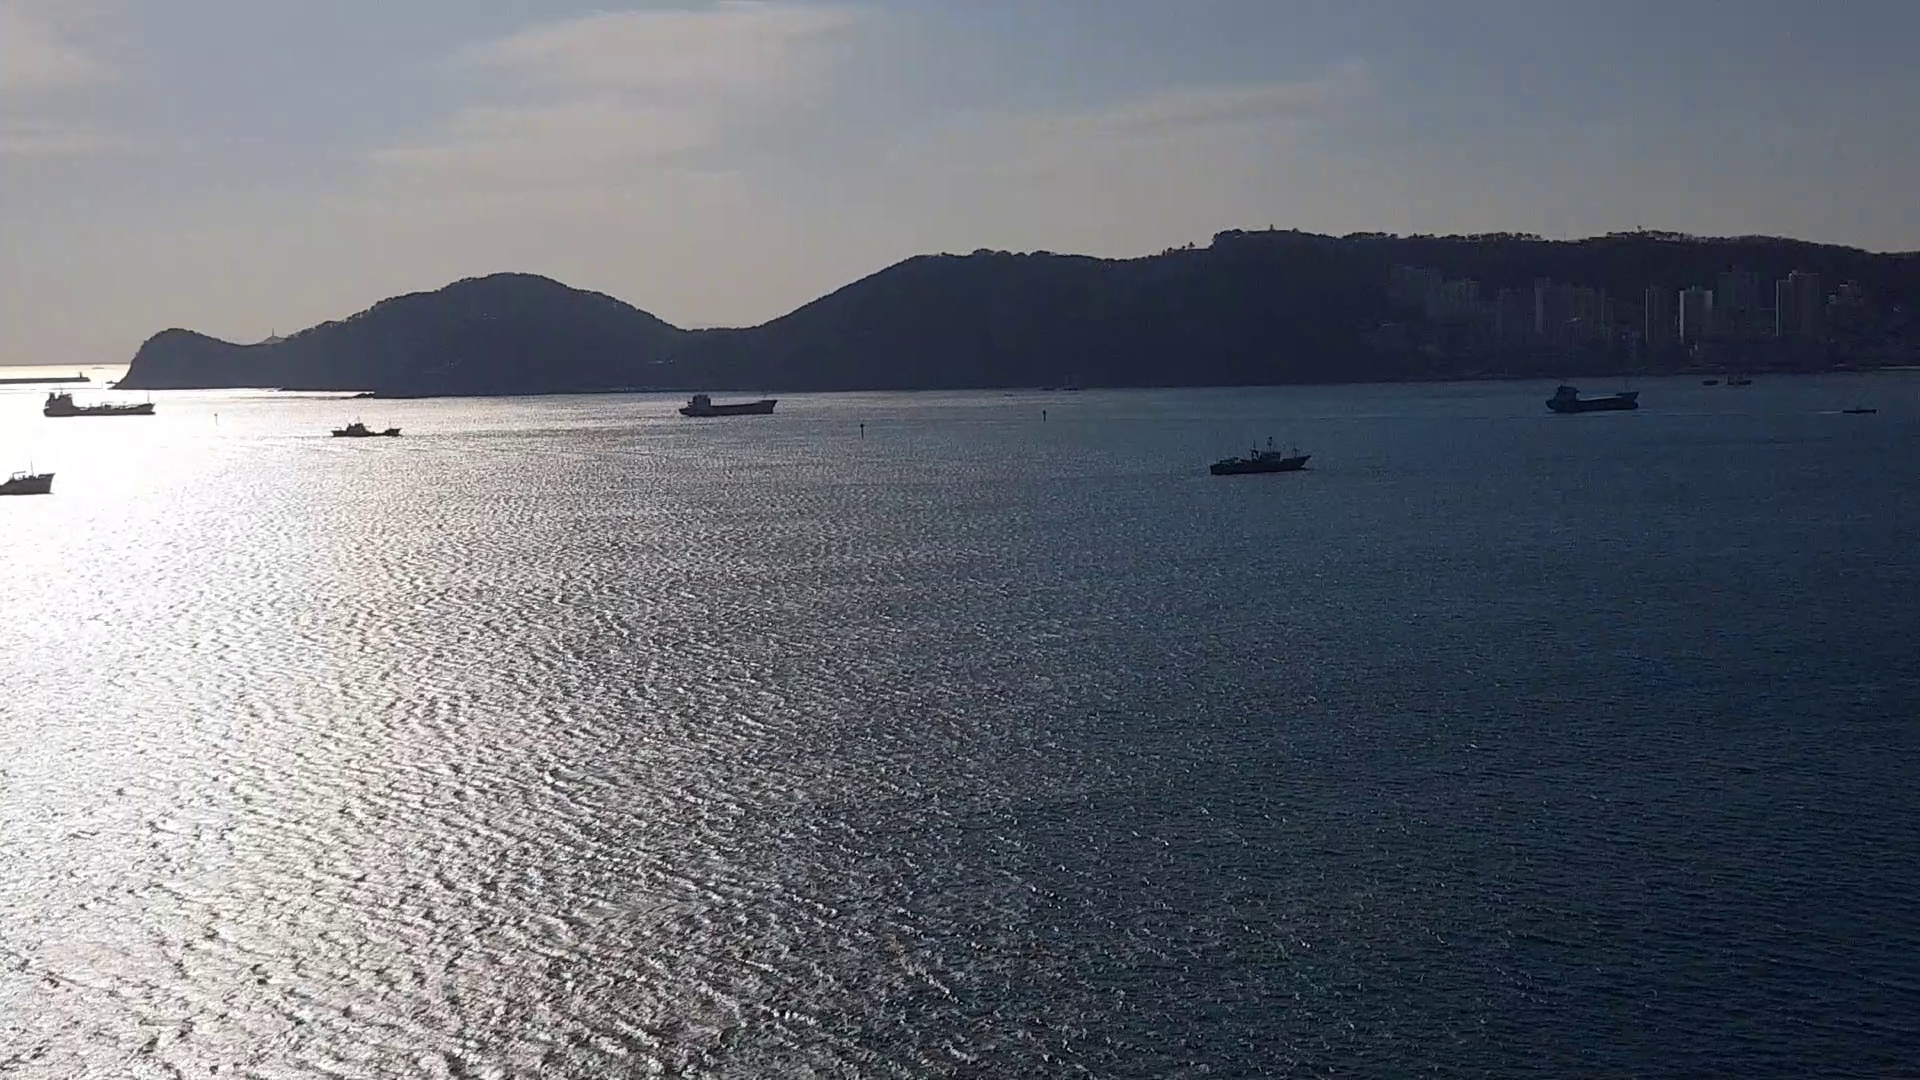Bulk_Carrier: (1203, 448, 1312, 473), (676, 400, 775, 419), (320, 426, 402, 440)
